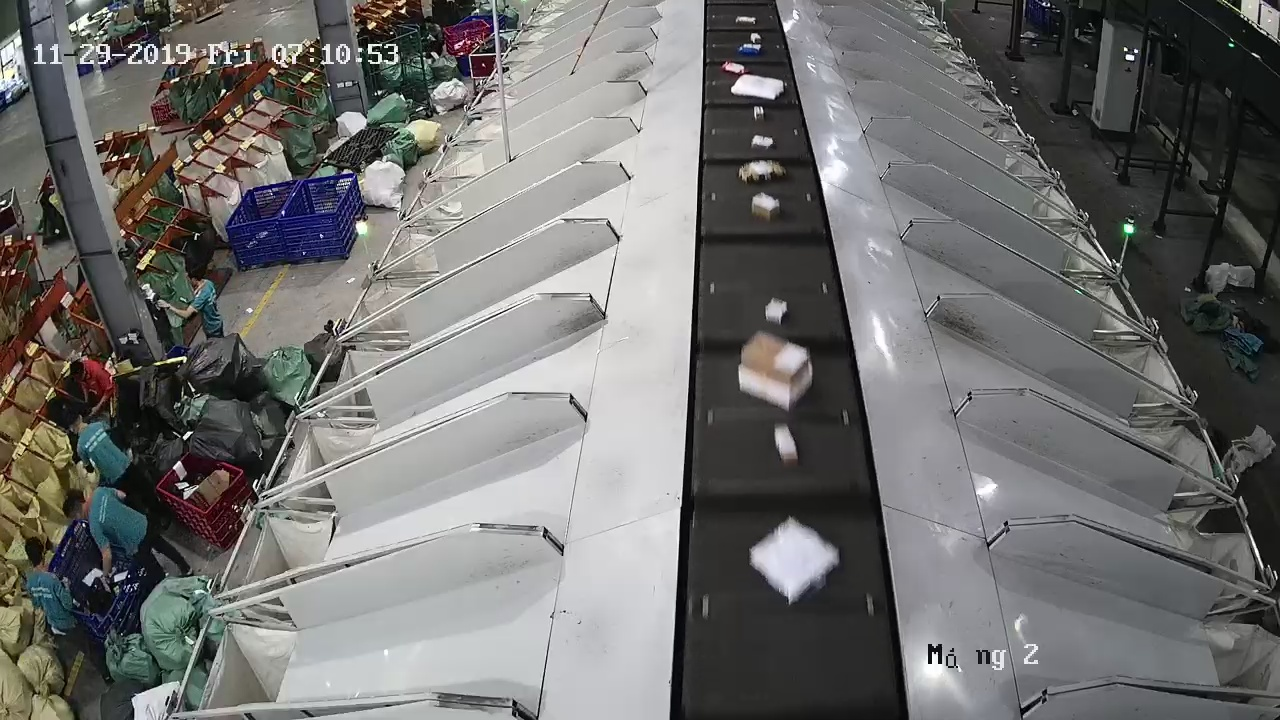parcel: (750, 521, 840, 605), (737, 331, 813, 412), (738, 160, 787, 185), (774, 424, 800, 468), (752, 192, 781, 222), (765, 298, 788, 326), (750, 134, 776, 151)
